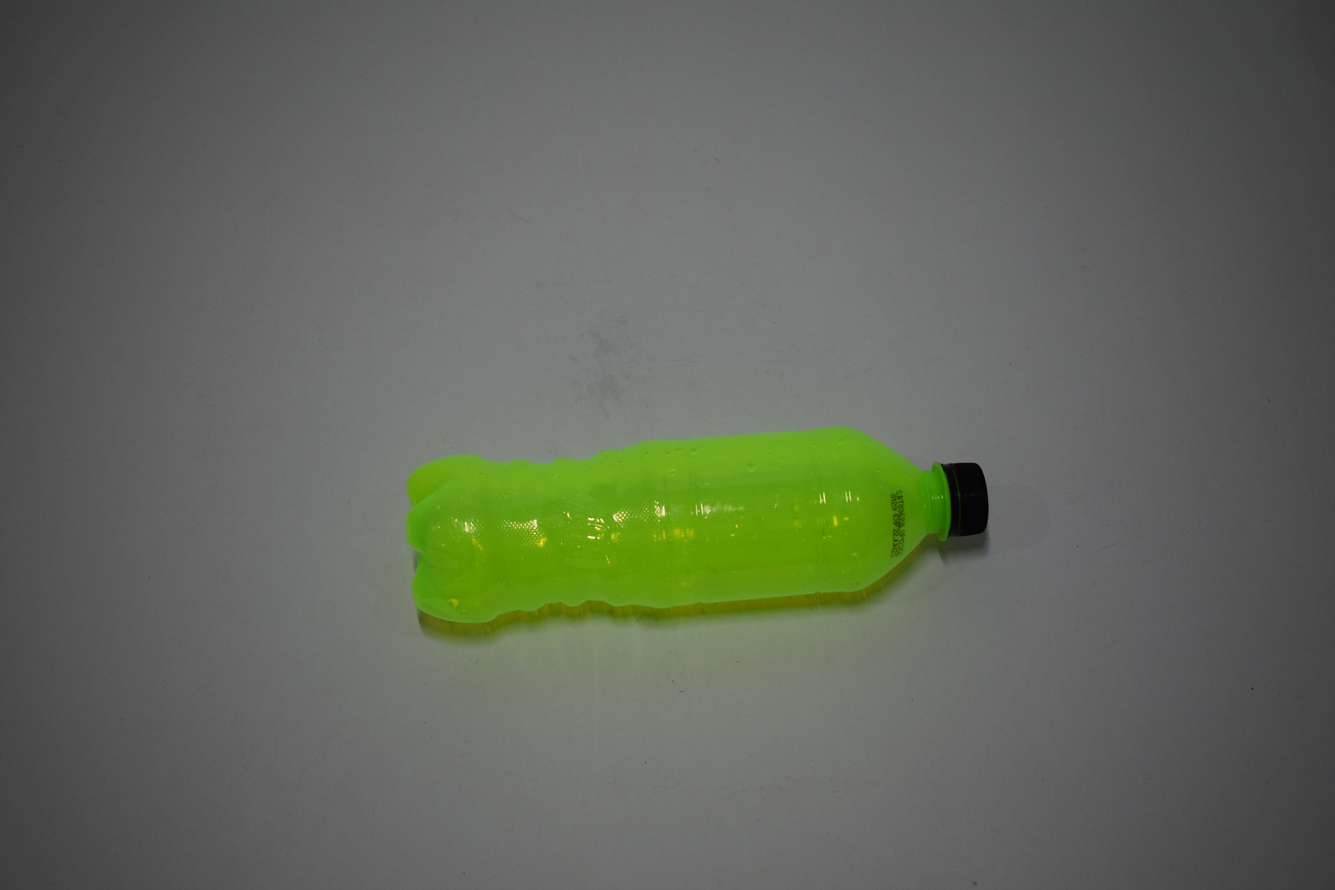plastic: (405, 427, 985, 624)
